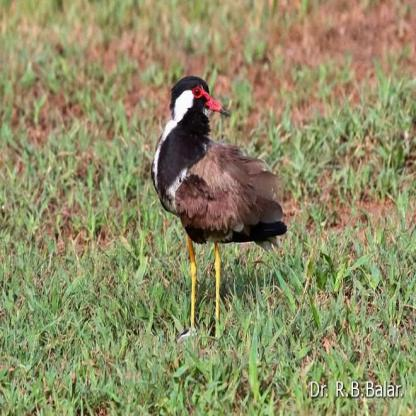Burung: (150, 75, 287, 334)
